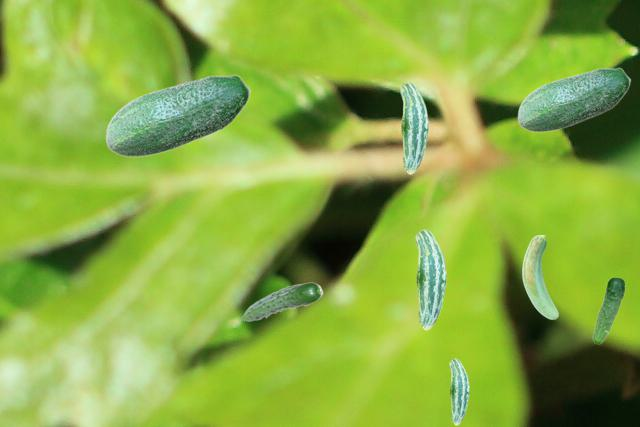cucumber: (105, 74, 250, 156), (517, 67, 630, 131), (241, 282, 322, 320), (415, 229, 445, 329), (522, 235, 557, 318), (400, 82, 427, 173), (592, 277, 624, 343), (449, 358, 468, 424)
